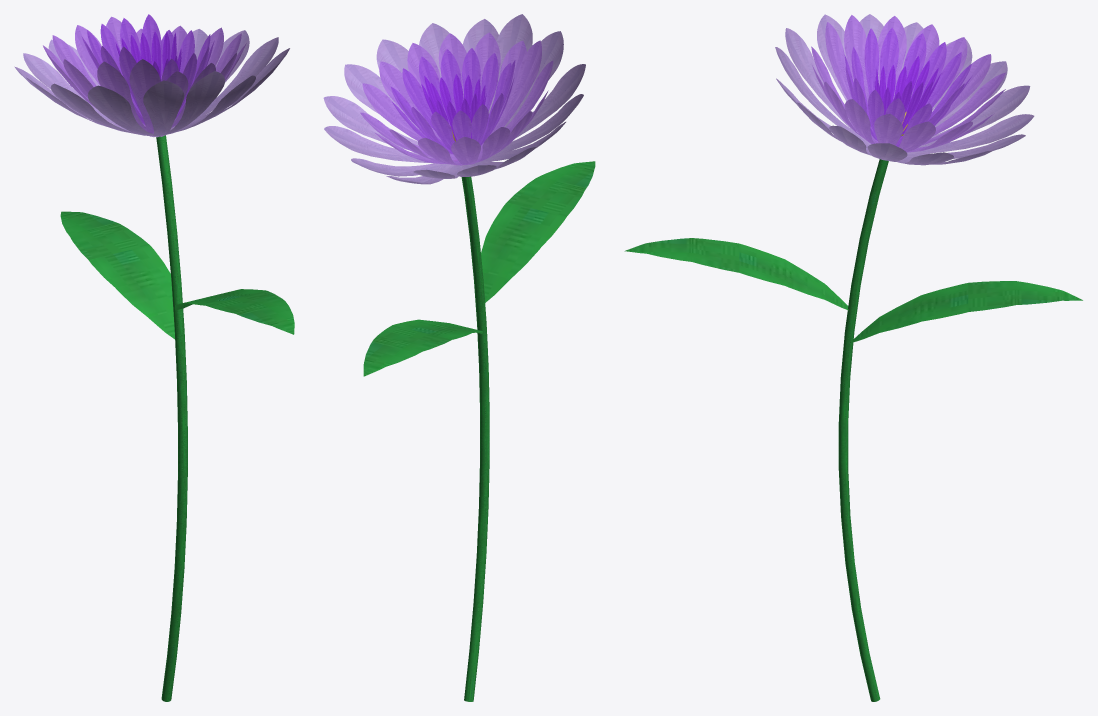
File: Purple-flower.fbx
3 views of the same model, side by side, from view 1: azimuth 30°, elevation 25°; view 2: azimuth 150°, elevation 25°; view 3: azimuth 270°, elevation 25° (orthographic). The views are drawn at different scales.
Parts seen in each view (by area): view 1: Component_17_2, Component_12_1, Component_17_1, Component_2_37, Component_2_61, Component_2_58, Component_2_60, Component_2_17, Component_2_62, Component_2_25, Component_2_33, Component_2_35 (+7 smaller); view 2: Component_17_1, Component_12_1, Component_17_2, Component_2_17, Component_2_64, Component_2_36, Component_2_61, Component_2_58, Component_2_32, Component_2_60, Component_2_33, Component_2_37 (+23 smaller); view 3: Component_12_1, Component_17_2, Component_17_1, Component_2_57, Component_2_37, Component_2_34, Component_2_58, Component_2_25, Component_2_17, Component_2_30, Component_2_26, Component_2_29 (+3 smaller).
Part boxes in pixels (<box>): Component_17_2: <box>60,211,174,339</box>; Component_12_1: <box>156,135,187,701</box>; Component_17_1: <box>174,289,294,334</box>; Component_2_37: <box>143,80,184,135</box>; Component_2_61: <box>87,85,153,135</box>; Component_2_58: <box>157,71,224,136</box>; Component_2_60: <box>160,37,278,136</box>; Component_2_17: <box>129,59,160,133</box>; Component_2_62: <box>23,53,153,137</box>; Component_2_25: <box>97,61,146,131</box>; Component_2_33: <box>50,83,139,134</box>; Component_2_35: <box>158,75,255,135</box>; Component_17_1: <box>481,161,595,302</box>; Component_12_1: <box>461,176,489,701</box>; Component_17_2: <box>363,319,482,376</box>; Component_2_17: <box>481,40,541,147</box>; Component_2_64: <box>324,126,432,162</box>; Component_2_36: <box>323,96,418,150</box>; Component_2_61: <box>515,64,585,138</box>; Component_2_58: <box>488,14,532,113</box>; Component_2_32: <box>362,83,453,154</box>; Component_2_60: <box>344,64,418,128</box>; Component_2_33: <box>493,94,583,155</box>; Component_2_37: <box>504,31,563,127</box>; Component_12_1: <box>838,159,888,701</box>; Component_17_2: <box>852,281,1082,342</box>; Component_17_1: <box>624,238,848,310</box>; Component_2_57: <box>907,114,1034,154</box>; Component_2_37: <box>785,28,871,144</box>; Component_2_34: <box>918,85,1030,147</box>; Component_2_58: <box>775,47,869,145</box>; Component_2_25: <box>844,15,869,104</box>; Component_2_17: <box>825,22,878,142</box>; Component_2_30: <box>933,72,1005,135</box>; Component_2_26: <box>941,54,991,119</box>; Component_2_29: <box>878,16,906,99</box>.
Size of the model in its own units: 15.12 by 40.67 by 25.84.
